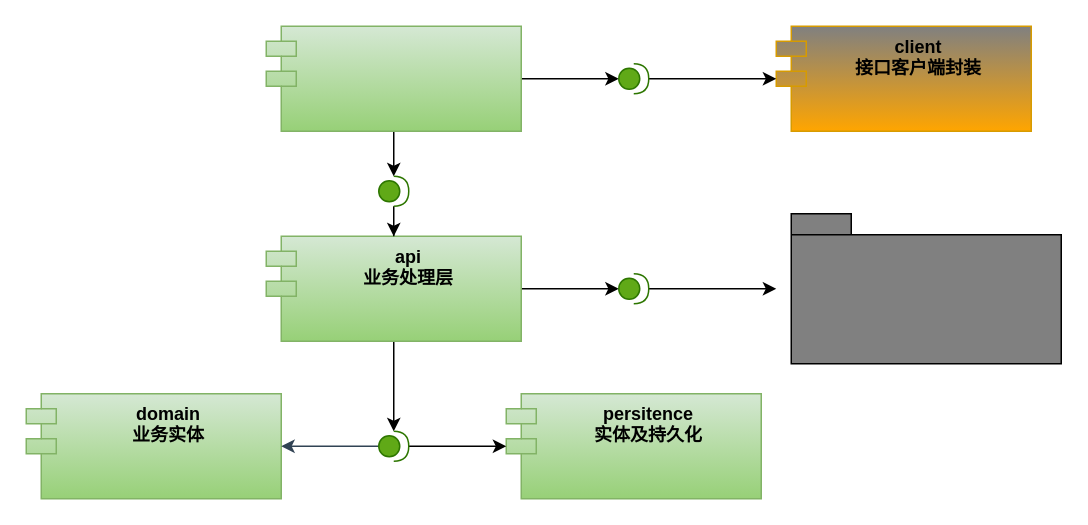
This 1088x525 diagram has some shape labels left out. Each missing label, with the centre of its shape:
"framework 核心组件" belongs at pixel 925 288.
"web Res 接口" belongs at pixel 393 78.
